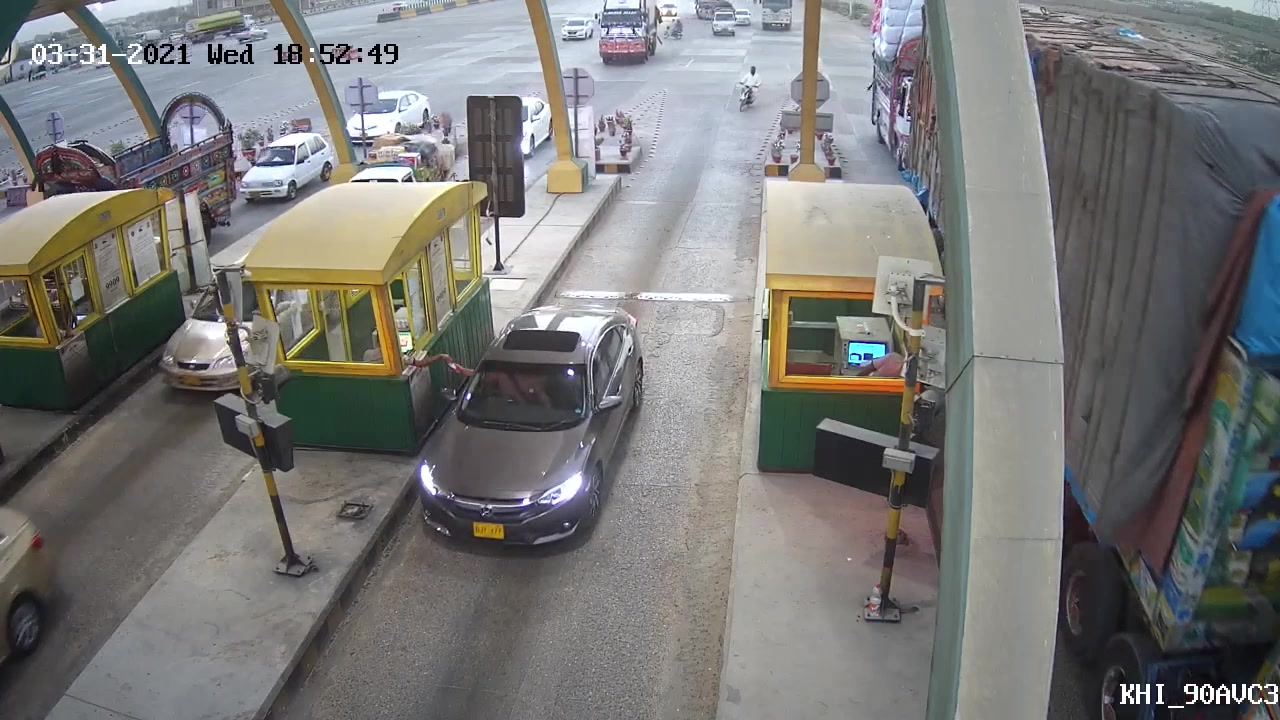F1: (415, 302, 649, 553)
